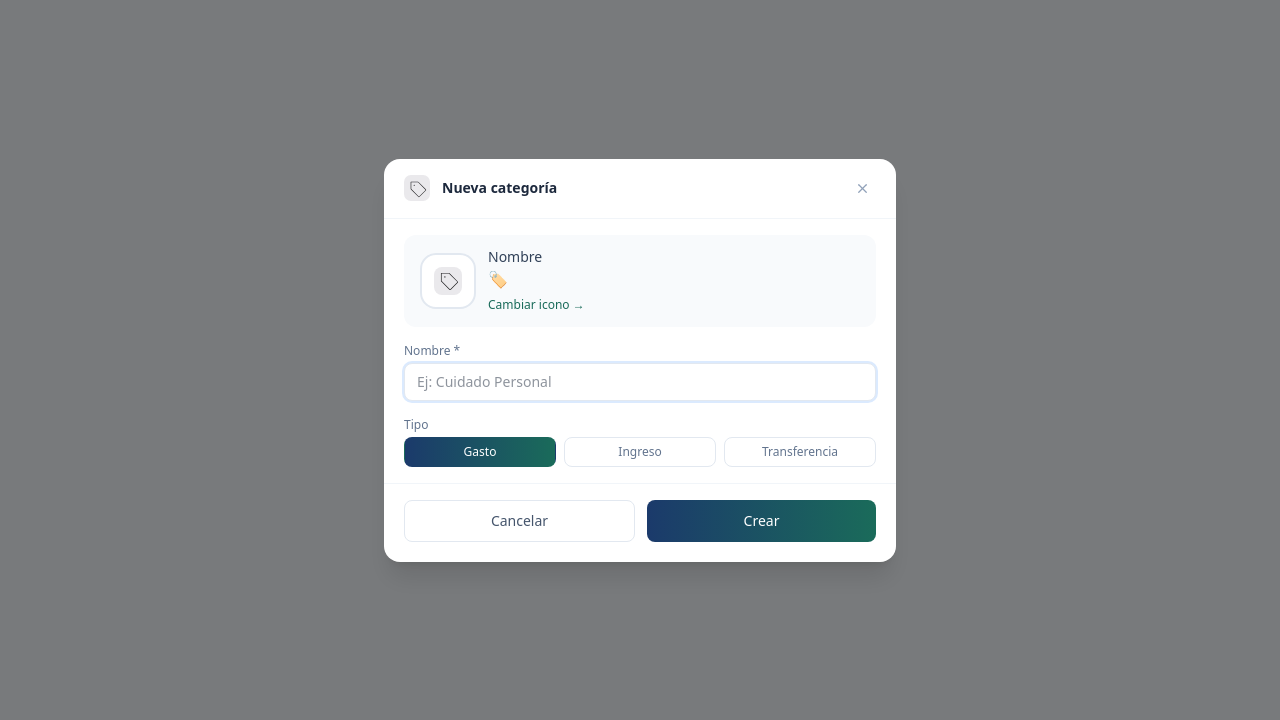
Test: NuevoItemModal — categoría › error de API → muestra mensaje del error
In the field with placeholder "Ej: Cuidado Personal": (640, 382) [404, 362, 876, 400], type "x"
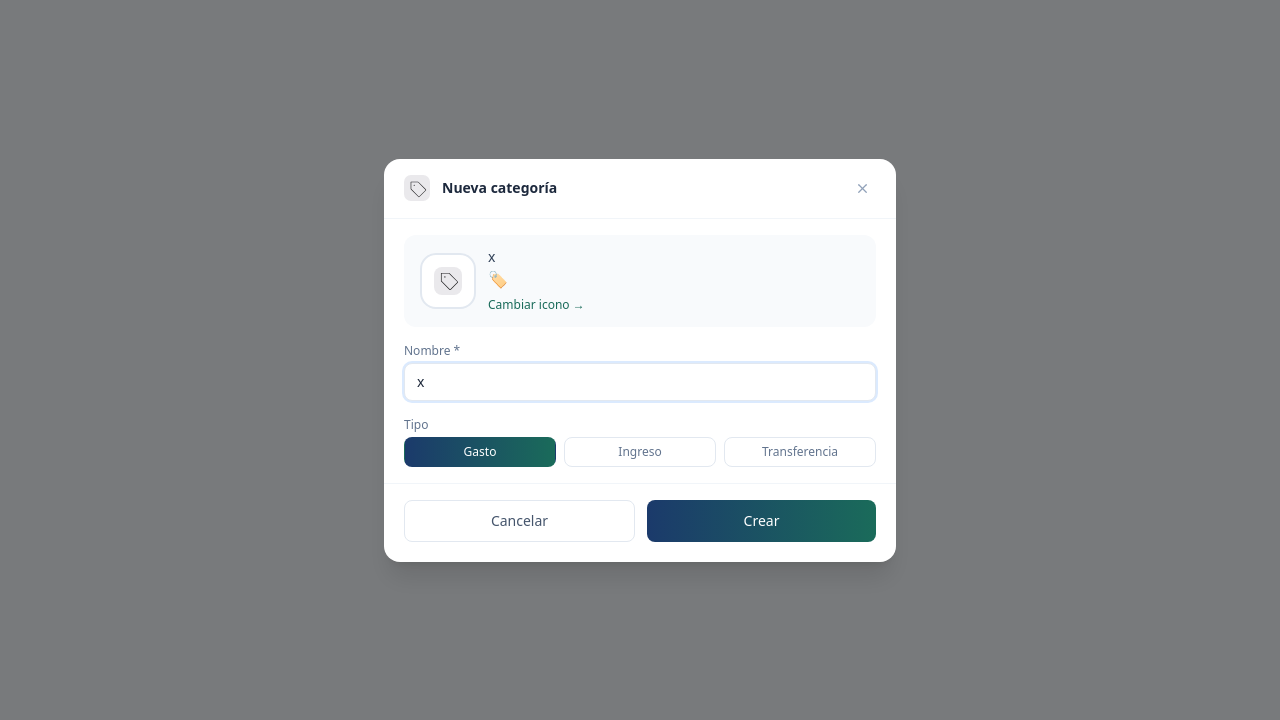
Click the button "Crear": (762, 520) [647, 500, 876, 542]
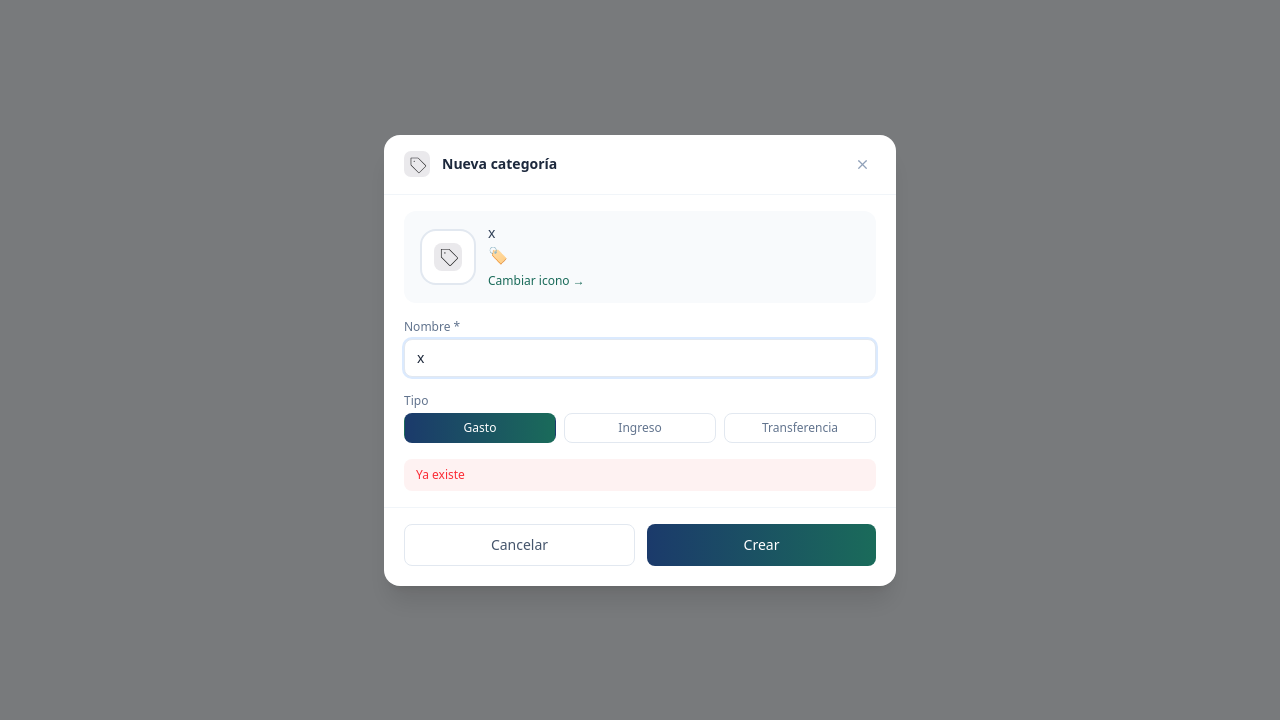
Now the text "Ya existe" is shown, box [404, 458, 876, 490]
